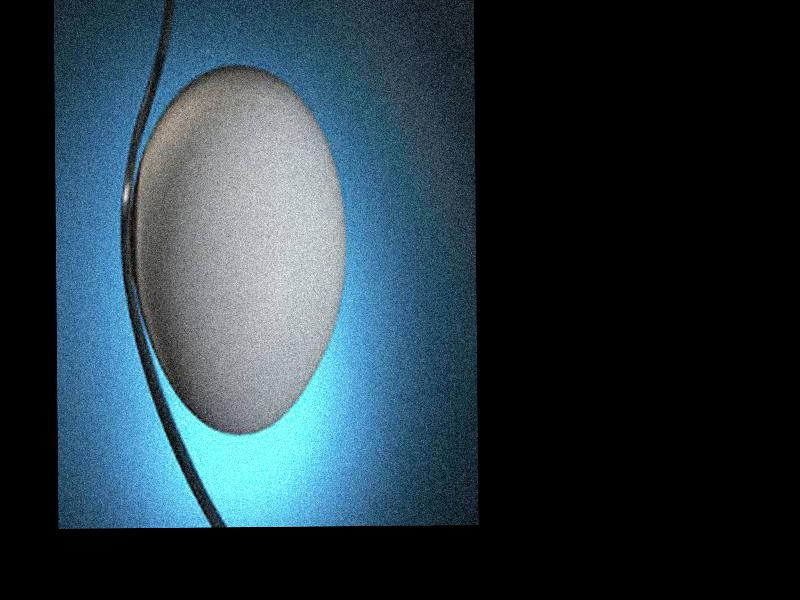Eggs: (132, 65, 344, 435)
